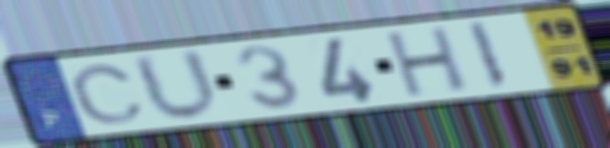3: (234, 43, 304, 114)
4: (316, 34, 381, 106)
C: (66, 63, 149, 126)
H: (384, 23, 473, 100)
I: (462, 18, 513, 93)
U: (126, 46, 225, 124)
